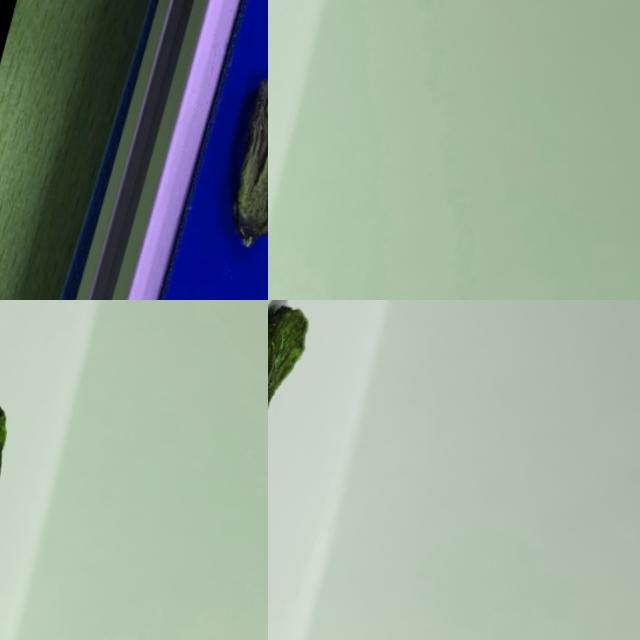Flat_cocoabeans: (268, 300, 419, 612), (0, 300, 94, 639), (175, 37, 267, 299)
